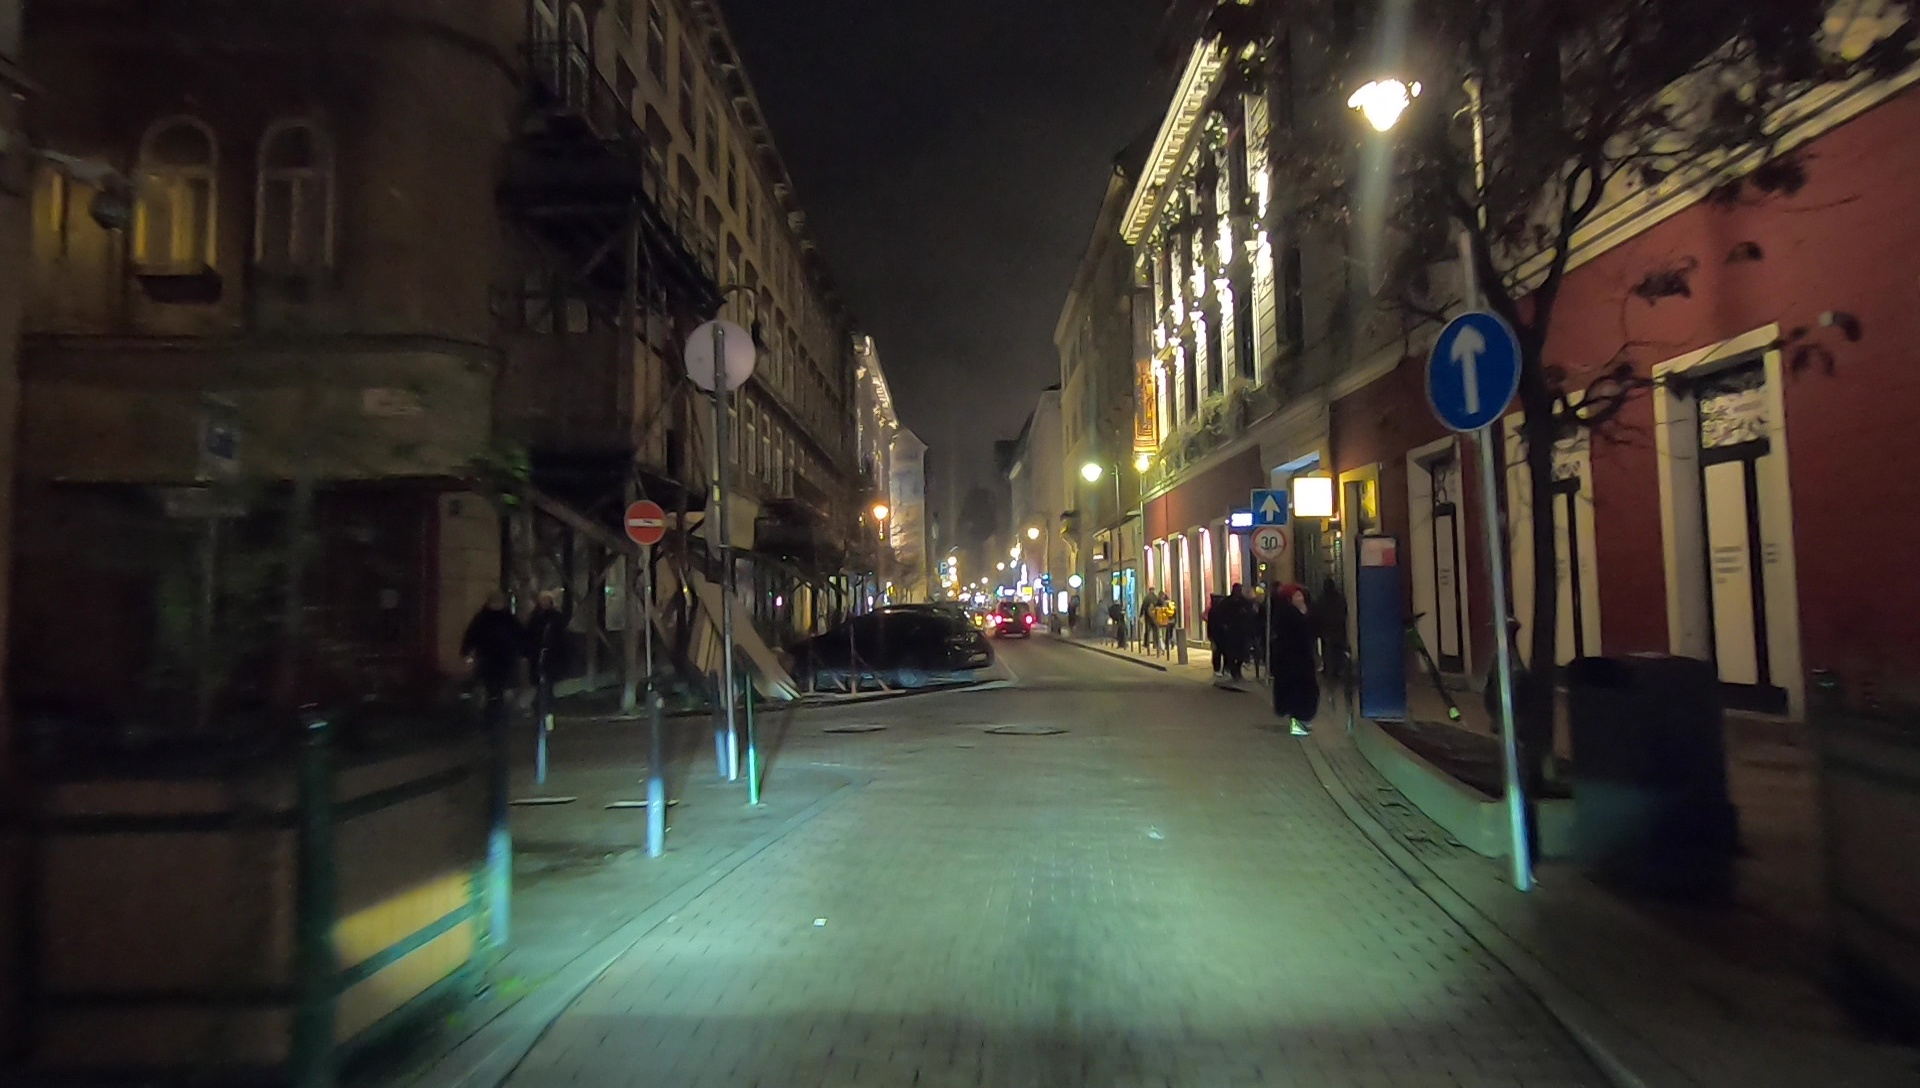person: (467, 591, 523, 748), (1273, 586, 1319, 740), (526, 591, 569, 725), (1223, 582, 1252, 682), (1204, 590, 1225, 671), (1145, 587, 1164, 648), (1160, 591, 1176, 648), (1113, 598, 1126, 648)
